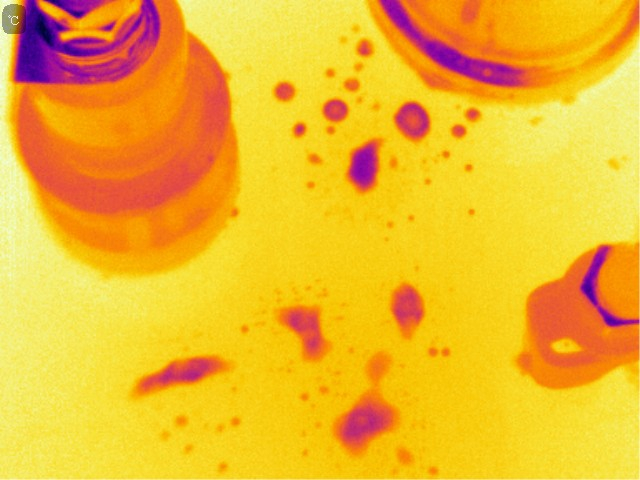Water: (324, 352, 404, 460), (130, 357, 232, 391), (271, 301, 329, 357), (389, 441, 447, 480), (388, 286, 428, 340), (344, 138, 378, 190), (343, 39, 377, 88), (396, 101, 431, 139), (452, 108, 482, 140), (177, 438, 206, 464), (210, 415, 243, 436), (460, 205, 491, 226), (425, 342, 457, 361), (321, 98, 348, 120), (149, 428, 176, 447), (271, 80, 293, 101), (214, 461, 241, 478), (417, 174, 441, 192), (308, 152, 324, 171), (288, 121, 308, 136), (460, 159, 475, 178), (168, 412, 189, 425), (437, 148, 453, 164)
